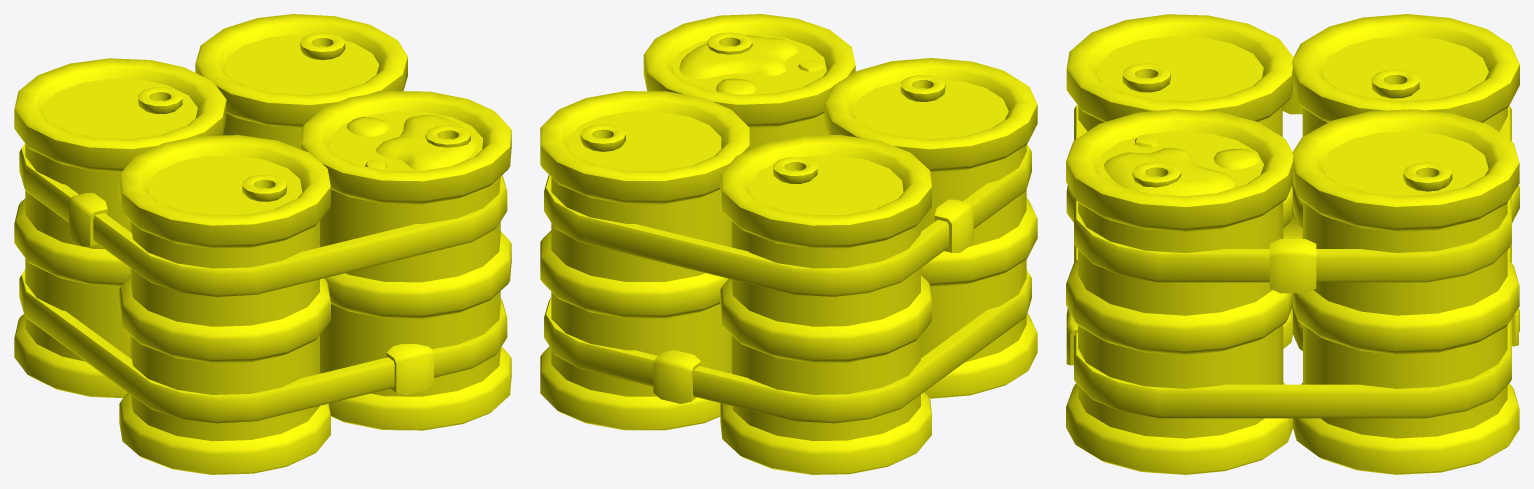
File: kaykit-fuel-c-barrels.glb
3 renders of one model, left to right at view 1: azimuth 30°, elevation 25°; view 2: azimuth 150°, elevation 25°; view 3: azimuth 270°, elevation 25°, orthographic. The views are drawn at different scales.
Visible parts, largest first — view 1: Fuel_C_Barrels; view 2: Fuel_C_Barrels; view 3: Fuel_C_Barrels.
Part boxes in pixels (x1=…): Fuel_C_Barrels: x1=14, y1=14, x2=511, y2=474; Fuel_C_Barrels: x1=540, y1=14, x2=1037, y2=474; Fuel_C_Barrels: x1=1066, y1=14, x2=1519, y2=474.
Bounding box in the file's own units: 1.51 × 1.01 × 1.51.
